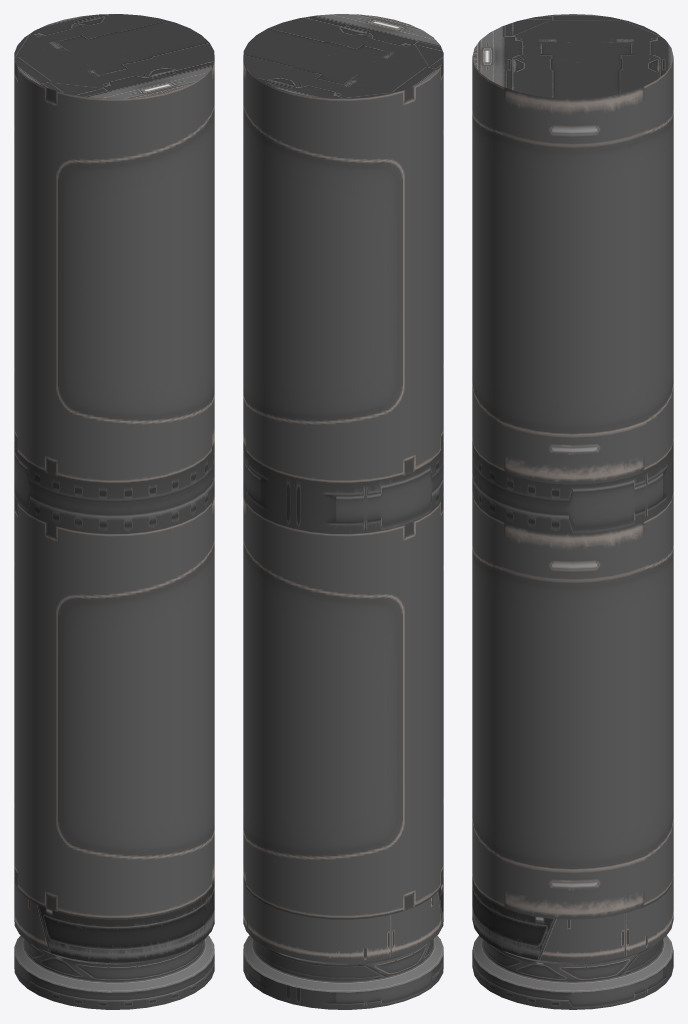
The model's file is Column_Round.gltf.
3 renders of one model, left to right at view 1: azimuth 30°, elevation 25°; view 2: azimuth 150°, elevation 25°; view 3: azimuth 270°, elevation 25°, orthographic.
Parts seen in each view (by area): view 1: Column_Round; view 2: Column_Round; view 3: Column_Round.
Part boxes in pixels (x1,y1,x2,y2): Column_Round: [14, 14, 214, 1009]; Column_Round: [243, 14, 443, 1009]; Column_Round: [472, 14, 673, 1009].
Size of the model in its own units: 1 by 5 by 1.
2 materials, 2 textured.
